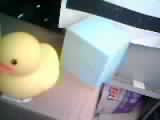duck: (3, 22, 58, 95)
